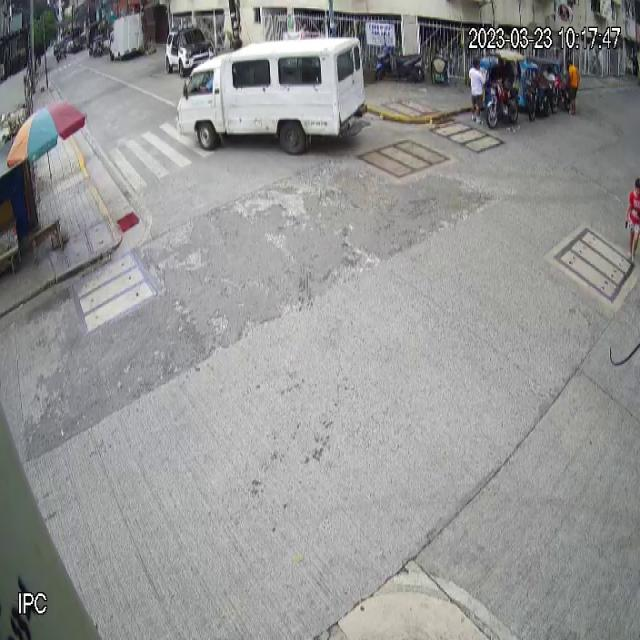Van: (175, 36, 373, 158)
